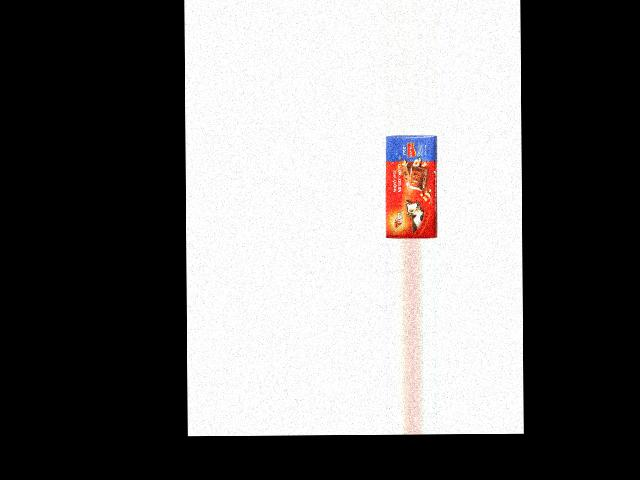chocolate: (386, 136, 442, 238)
